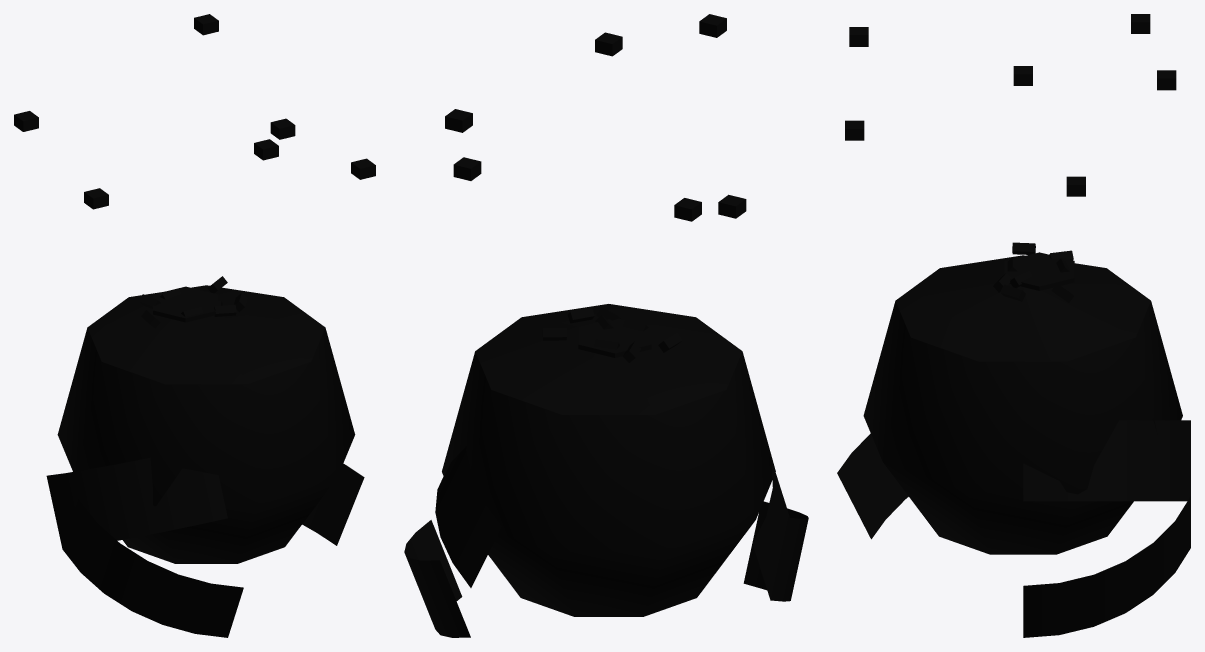
The model's file is SM_cabbage_rotten.fbx.
3 renders of one model, left to right at view 1: azimuth 30°, elevation 25°; view 2: azimuth 150°, elevation 25°; view 3: azimuth 270°, elevation 25°, orthographic. The views are drawn at different scales.
Visible parts, largest first — view 1: cabbage_rotten, cabbage_rotten_flies; view 2: cabbage_rotten, cabbage_rotten_flies; view 3: cabbage_rotten, cabbage_rotten_flies.
Part boxes in pixels (x1=…): cabbage_rotten: x1=46, y1=276, x2=364, y2=637; cabbage_rotten_flies: x1=14, y1=14, x2=375, y2=209; cabbage_rotten: x1=404, y1=304, x2=808, y2=637; cabbage_rotten_flies: x1=445, y1=14, x2=746, y2=221; cabbage_rotten: x1=837, y1=242, x2=1190, y2=637; cabbage_rotten_flies: x1=845, y1=14, x2=1176, y2=196.
Bounding box in the file's own units: 0.2308 × 0.3605 × 0.2182.
